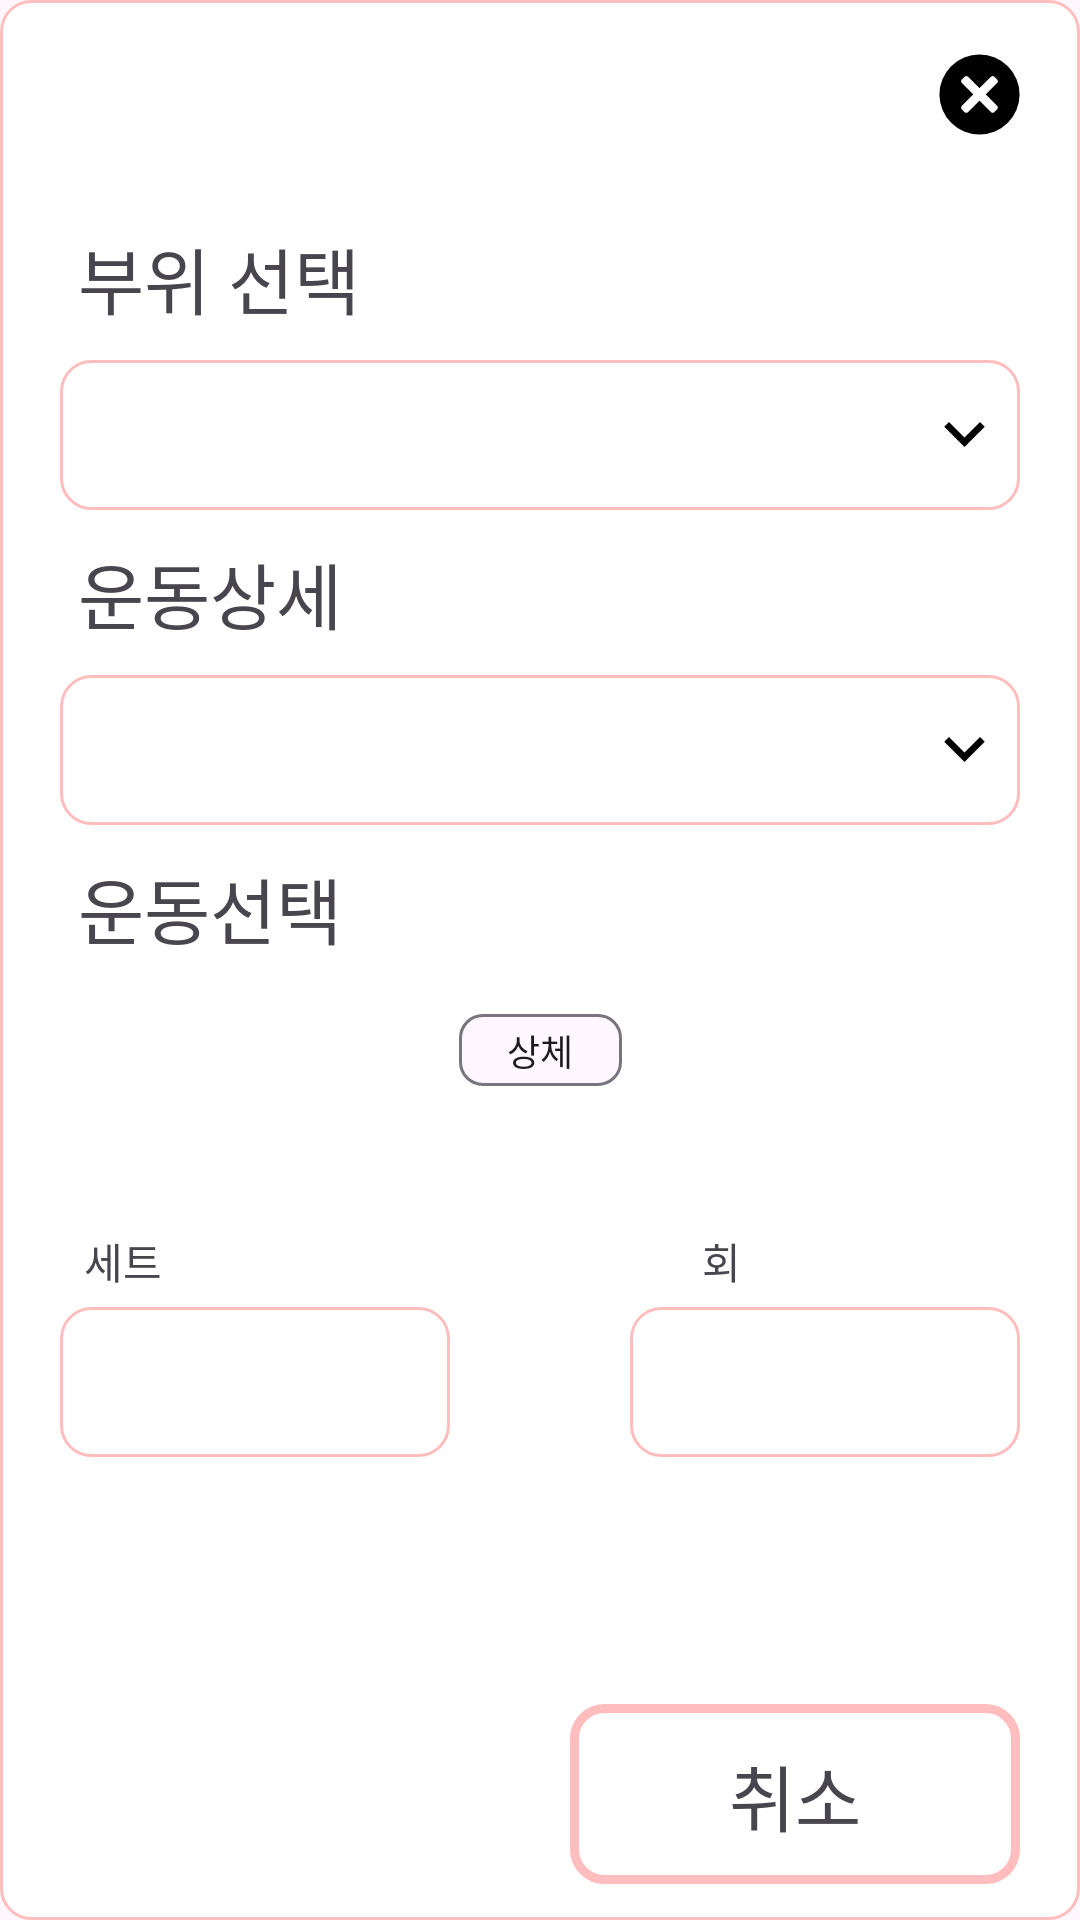

Locate icon controls on the screen. Image size 1080×1920, boxes as (x1, y1, x2, y2).
arrrow down: (944, 422, 985, 447), (944, 737, 985, 762)
close: (939, 54, 1020, 135)
